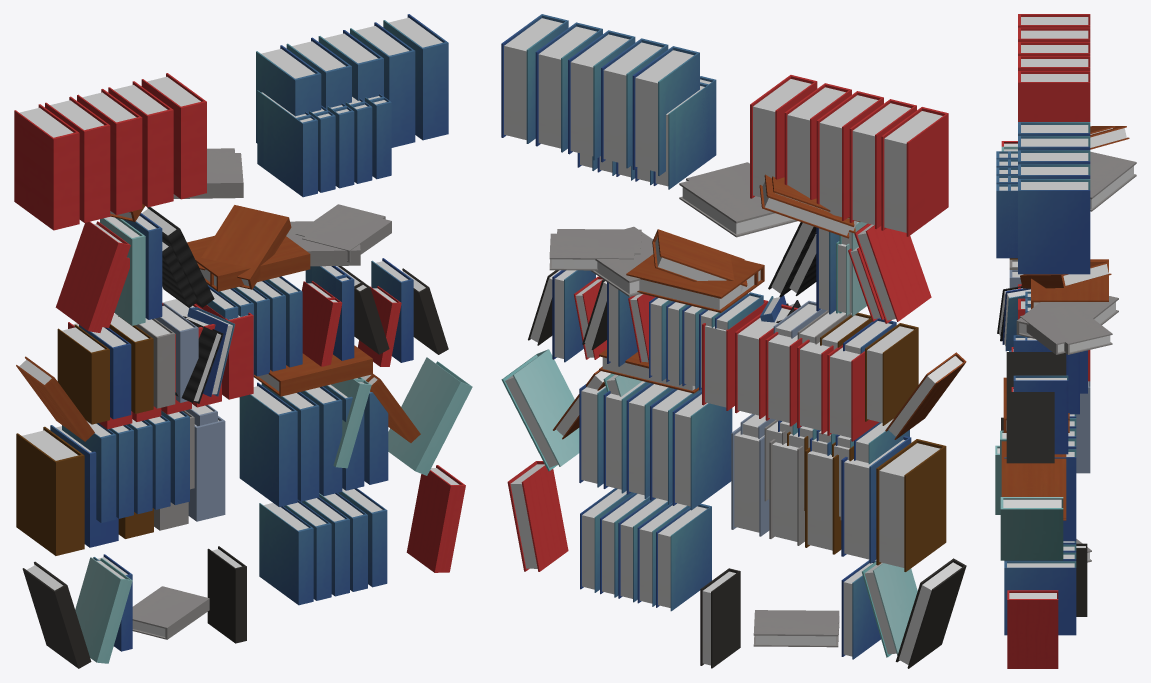
The model's file is Books.fbx.
3 views of the same model, side by side, from view 1: azimuth 30°, elevation 25°; view 2: azimuth 150°, elevation 25°; view 3: azimuth 270°, elevation 25° (orthographic). The views are drawn at different scales.
Visible parts, largest first — view 1: Books_01, Books_02, Books_03, Book_01; view 2: Books_01, Books_03, Books_02, Book_01; view 3: Books_01, Books_02, Books_03, Book_01.
Part boxes in pixels (<box>): Books_01: <box>14,14,472,668</box>; Books_02: <box>57,94,420,522</box>; Books_03: <box>175,90,390,489</box>; Book_01: <box>207,546,246,643</box>; Books_01: <box>501,14,966,668</box>; Books_03: <box>549,82,884,516</box>; Books_02: <box>556,76,918,519</box>; Book_01: <box>700,568,740,668</box>; Books_01: <box>995,14,1118,668</box>; Books_02: <box>996,126,1124,499</box>; Books_03: <box>997,126,1136,520</box>; Book_01: <box>1076,543,1087,616</box>.
Size of the model in its own units: 8.69 by 10.97 by 2.75.
